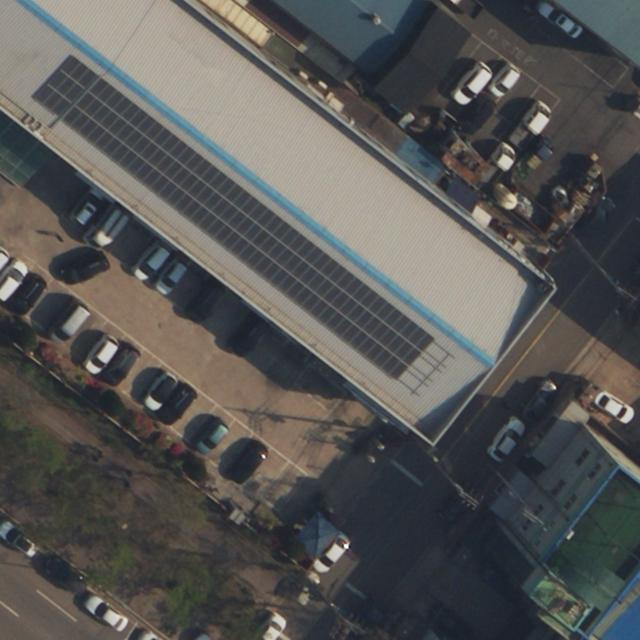panel: (29, 54, 439, 383)
